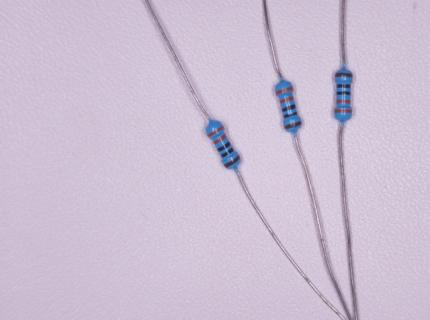Black band: (217, 141, 231, 152), (221, 147, 234, 158), (282, 104, 296, 112), (284, 112, 298, 119), (335, 73, 352, 77), (336, 84, 351, 88), (336, 92, 351, 95)
Brown band: (224, 155, 240, 168), (284, 121, 301, 129)
Orange band: (208, 126, 224, 138), (275, 86, 294, 95), (213, 134, 227, 145), (280, 96, 294, 104), (334, 109, 352, 113), (336, 100, 351, 104)
